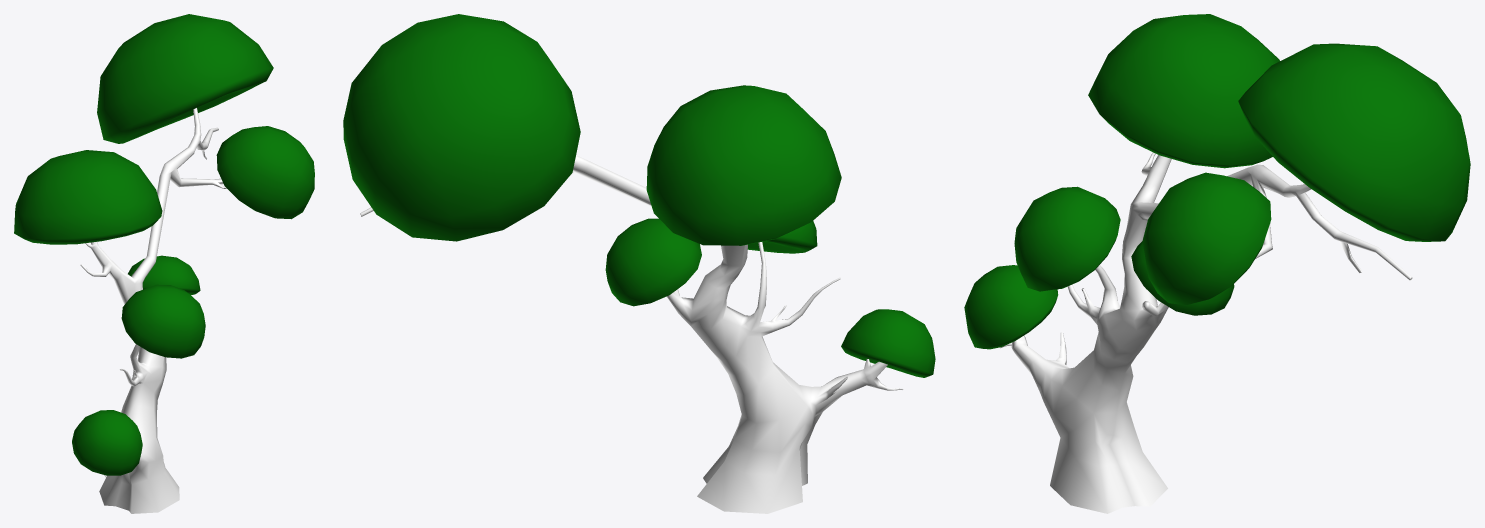
The model's file is SM_Tree_P_7.fbx.
The picture shows the model from 3 angles, left to right: view 1: azimuth 30°, elevation 25°; view 2: azimuth 150°, elevation 25°; view 3: azimuth 270°, elevation 25°; orthographic projection. The views are drawn at different scales.
Parts seen in each view (by area): view 1: SM_Tree_P_7; view 2: SM_Tree_P_7; view 3: SM_Tree_P_7.
Part boxes in pixels (x1,y1,x2,y2): SM_Tree_P_7: (14, 14, 314, 513); SM_Tree_P_7: (343, 14, 935, 513); SM_Tree_P_7: (964, 14, 1470, 513).
Bounding box in the file's own units: 995 × 1155 × 1007.
